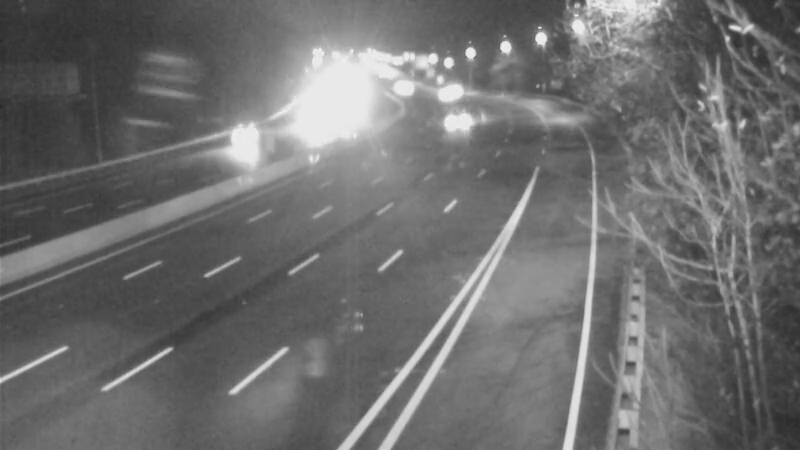vehicle: (416, 65, 466, 115), (427, 69, 477, 119), (435, 99, 485, 149), (220, 105, 270, 155)
